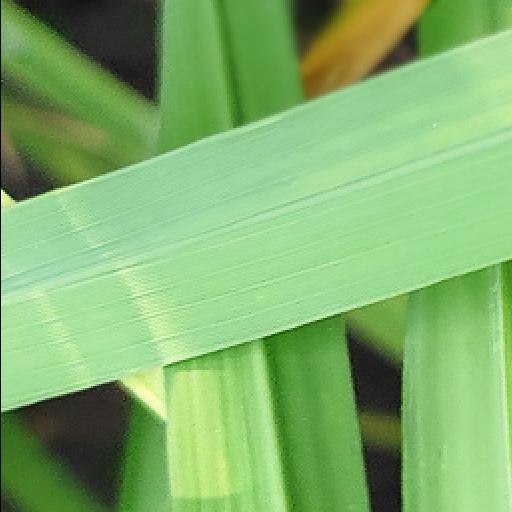Healthy Leaf: (2, 26, 510, 416)
